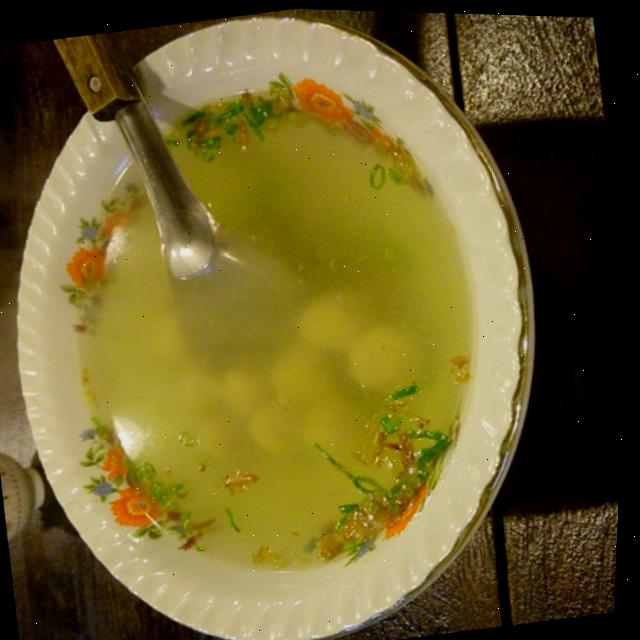熟制海鲜: (78, 102, 504, 563)
